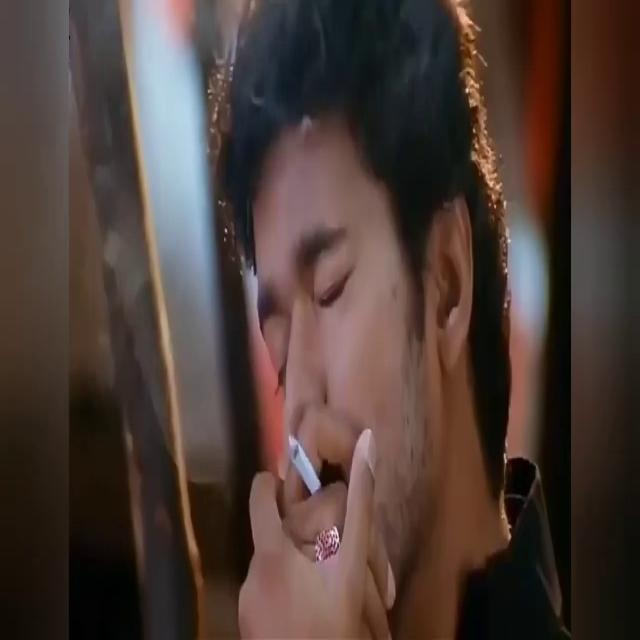smoking: (280, 466, 338, 486)
